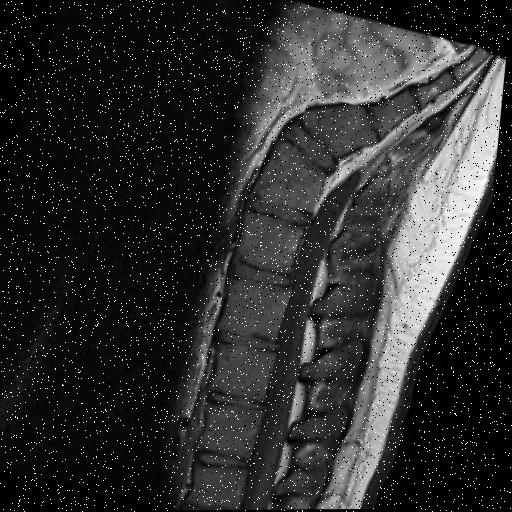L1: (205, 402, 273, 460)
L2: (217, 341, 285, 402)
L3: (224, 276, 298, 343)
L4: (243, 212, 310, 273)
L5: (256, 142, 330, 212)
S1: (304, 105, 380, 157)
